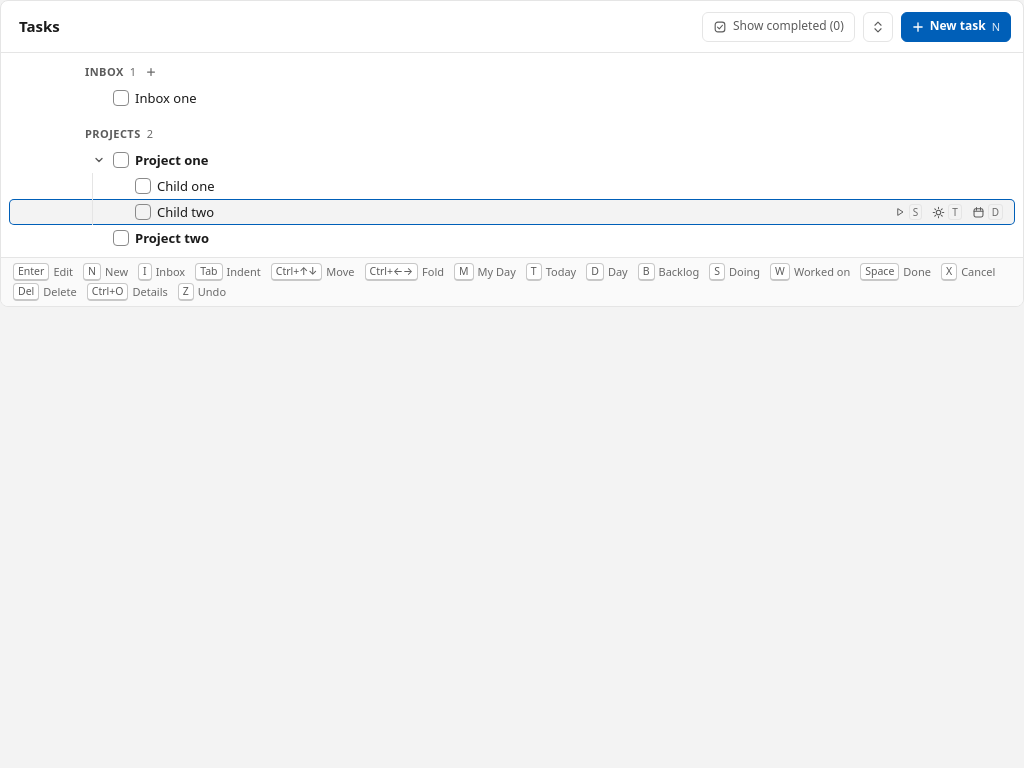
Scenario: editing a saved title › Backspace on an emptied persisted title deletes with toast and edits the row above
Check: the text "Child one" is shown, box [157, 177, 215, 195]
Press F2
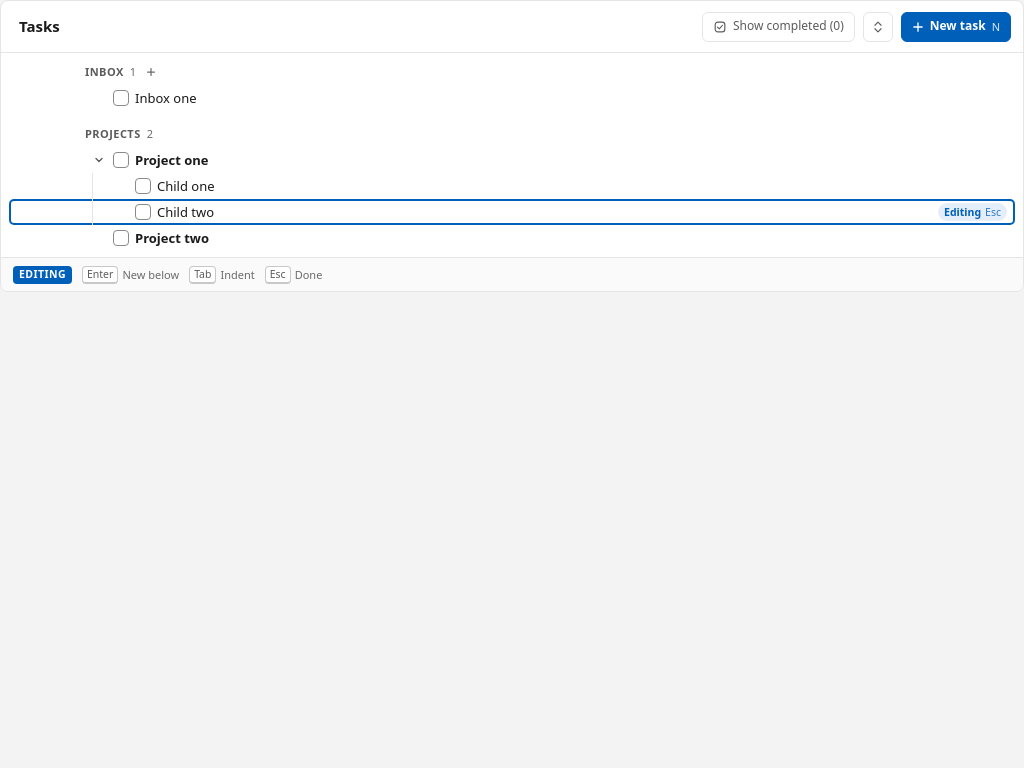
Clear the field at (349, 212), box [157, 202, 542, 222]
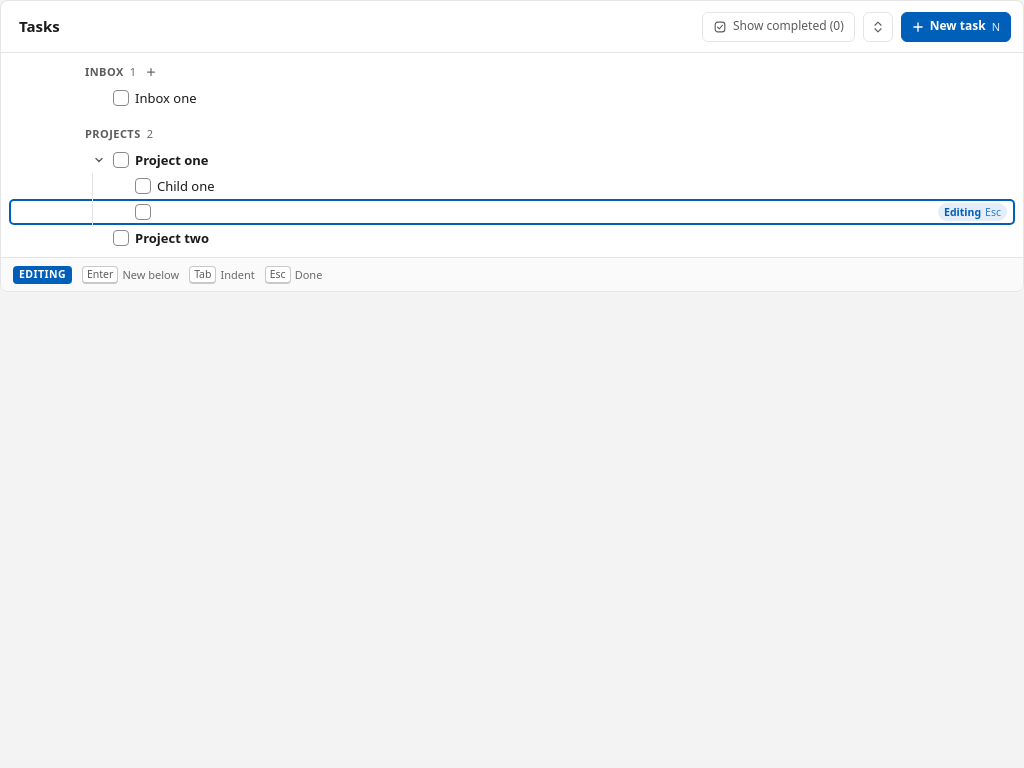
Press Backspace in the field, box [157, 202, 542, 222]
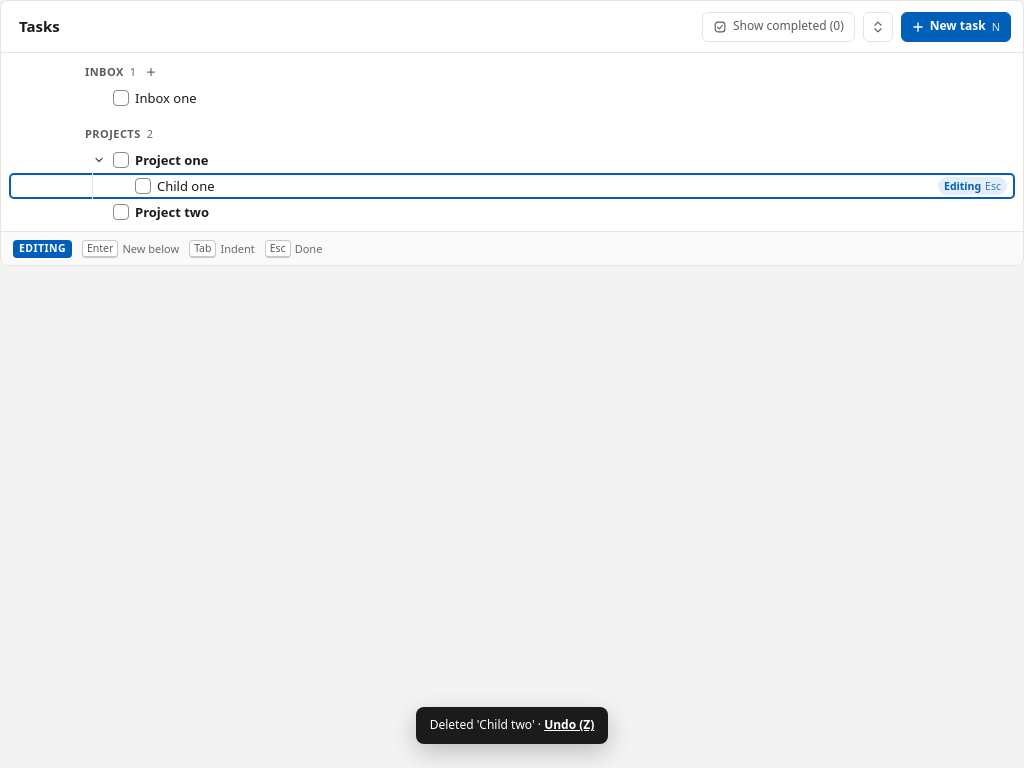
Check: the field holds "Child one", box [157, 176, 542, 196]
Check: the message reads "Deleted 'Child two' · Undo (Z)", box [416, 707, 608, 744]
